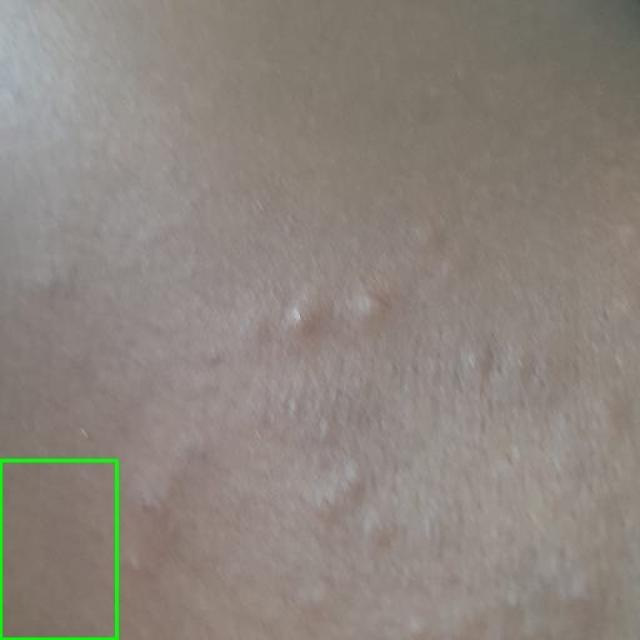Seborrheic Dermatitis: (0, 460, 116, 639)
